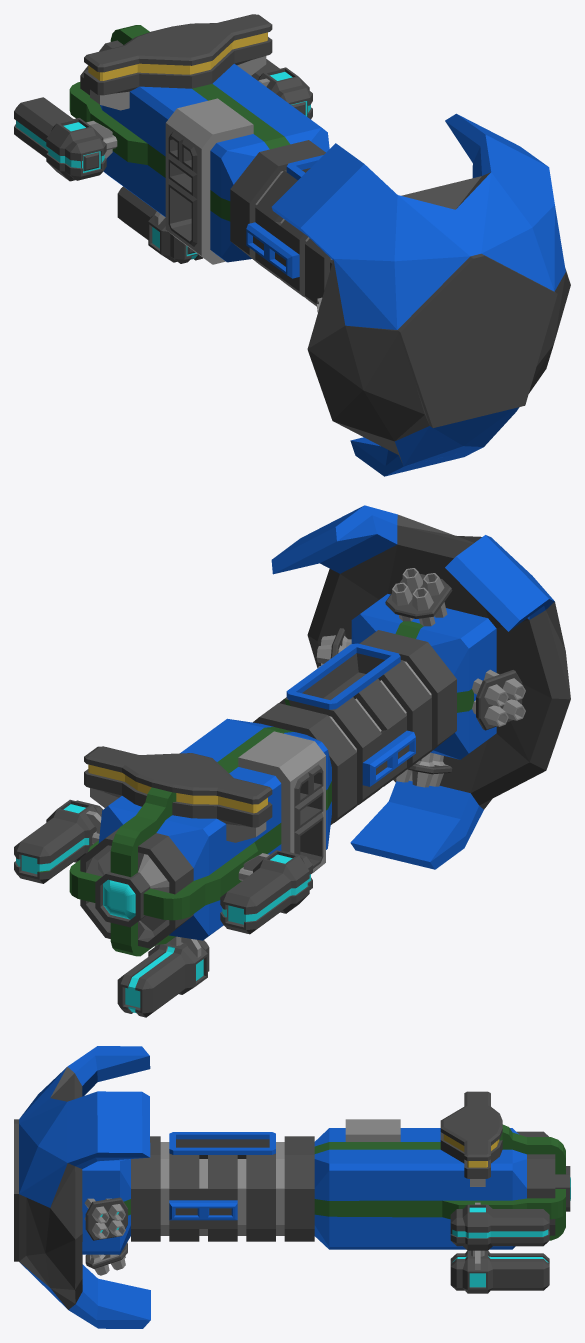
Rendered from Ship_DroneSpace.fbx.
The picture shows the model from 3 angles, top to bottom: view 1: azimuth 30°, elevation 25°; view 2: azimuth 150°, elevation 25°; view 3: azimuth 270°, elevation 25°; orthographic projection. The views are drawn at different scales.
Parts seen in each view (by area): view 1: Ship_New; view 2: Ship_New; view 3: Ship_New.
Boxes of the visible parts, x1,y1,x2,y2 form: Ship_New: (14,14,570,476); Ship_New: (14,505,570,1017); Ship_New: (14,1046,570,1328).
Bounding box in the file's own units: 23.38 × 26.99 × 55.56.
